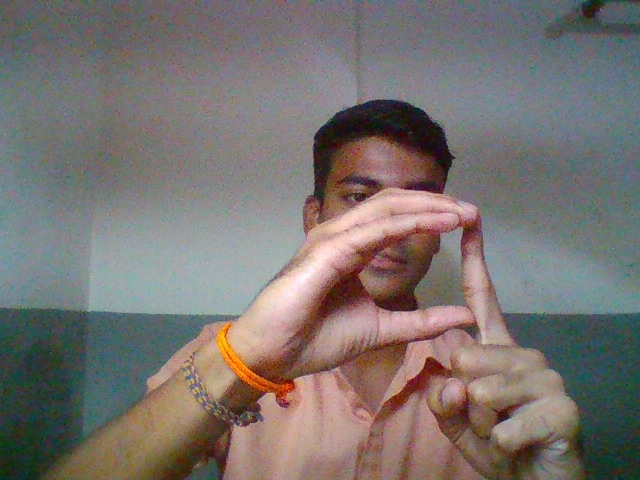D: (216, 181, 606, 480)
